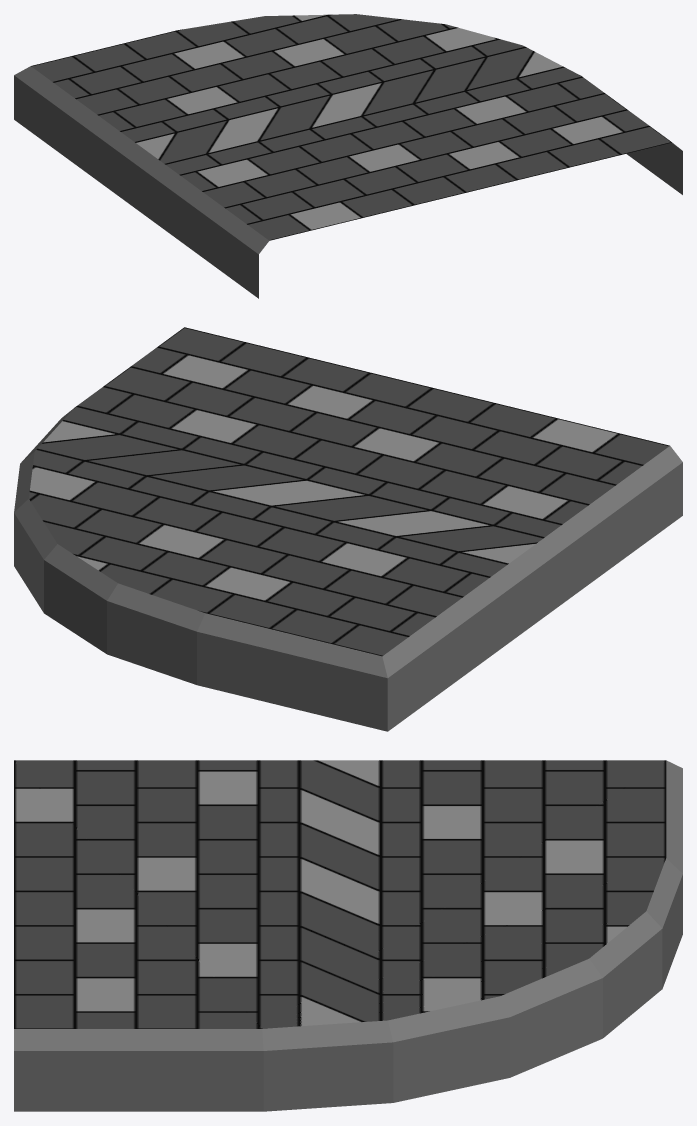
File: External_round_sidewalk_with_extra_border.fbx
The picture shows the model from 3 angles, top to bottom: view 1: azimuth 30°, elevation 25°; view 2: azimuth 150°, elevation 25°; view 3: azimuth 270°, elevation 25°; orthographic projection. The views are drawn at different scales.
Visible parts, largest first — view 1: Esquina redonda con bordillo trasero; view 2: Esquina redonda con bordillo trasero; view 3: Esquina redonda con bordillo trasero.
Boxes of the visible parts, x1=… form: Esquina redonda con bordillo trasero: x1=14, y1=14, x2=682, y2=298; Esquina redonda con bordillo trasero: x1=14, y1=327, x2=682, y2=731; Esquina redonda con bordillo trasero: x1=14, y1=760, x2=682, y2=1111.
Size of the model in its own units: 800 by 100 by 800.
